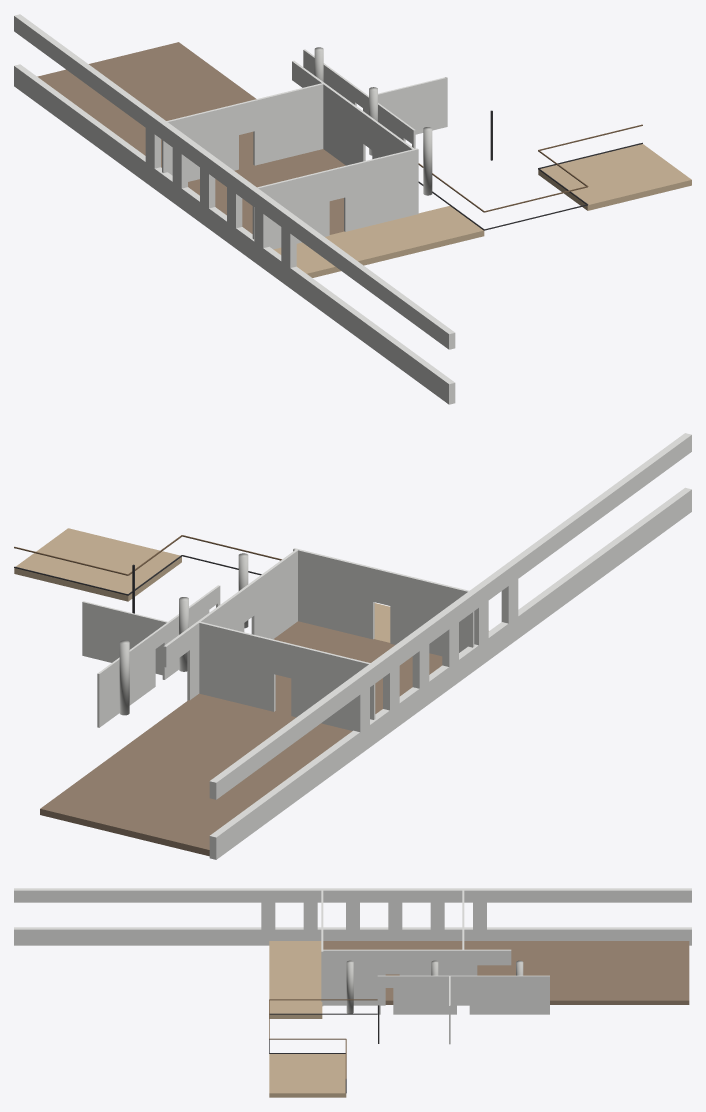
File: SM_Bygg_Helgasetr_P4_V_MS.fbx
3 renders of one model, top to bottom at view 1: azimuth 30°, elevation 25°; view 2: azimuth 150°, elevation 25°; view 3: azimuth 270°, elevation 25°, orthographic. The views are drawn at different scales.
Visible parts, largest first — view 1: SM_Bygg_Helgasetr_P4_V_MS; view 2: SM_Bygg_Helgasetr_P4_V_MS; view 3: SM_Bygg_Helgasetr_P4_V_MS.
Boxes of the visible parts, x1,y1,x2,y2 form: SM_Bygg_Helgasetr_P4_V_MS: (14,14,691,404); SM_Bygg_Helgasetr_P4_V_MS: (14,433,691,859); SM_Bygg_Helgasetr_P4_V_MS: (14,888,691,1097).
Bounding box in the file's own units: 48.08 × 25.95 × 4.3.
